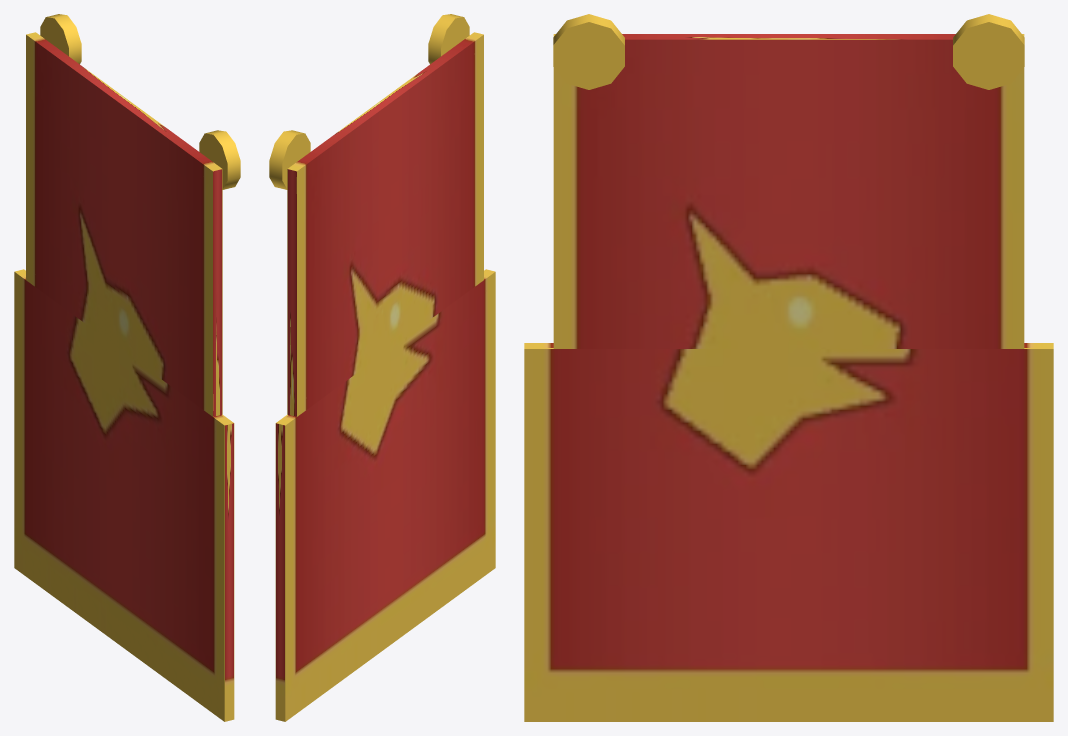
File: back_cape_red.glb
The picture shows the model from 3 angles, left to right: view 1: azimuth 30°, elevation 25°; view 2: azimuth 150°, elevation 25°; view 3: azimuth 270°, elevation 25°; orthographic projection. The views are drawn at different scales.
Parts seen in each view (by area): view 1: Back; view 2: Back; view 3: Back.
Part boxes in pixels (box(x1,y1,x2,y2)): Back: box(14, 14, 240, 721); Back: box(269, 14, 495, 721); Back: box(524, 14, 1053, 721).
Size of the model in its own units: 0.051 by 1 by 0.675.
2 materials, 1 textured.
